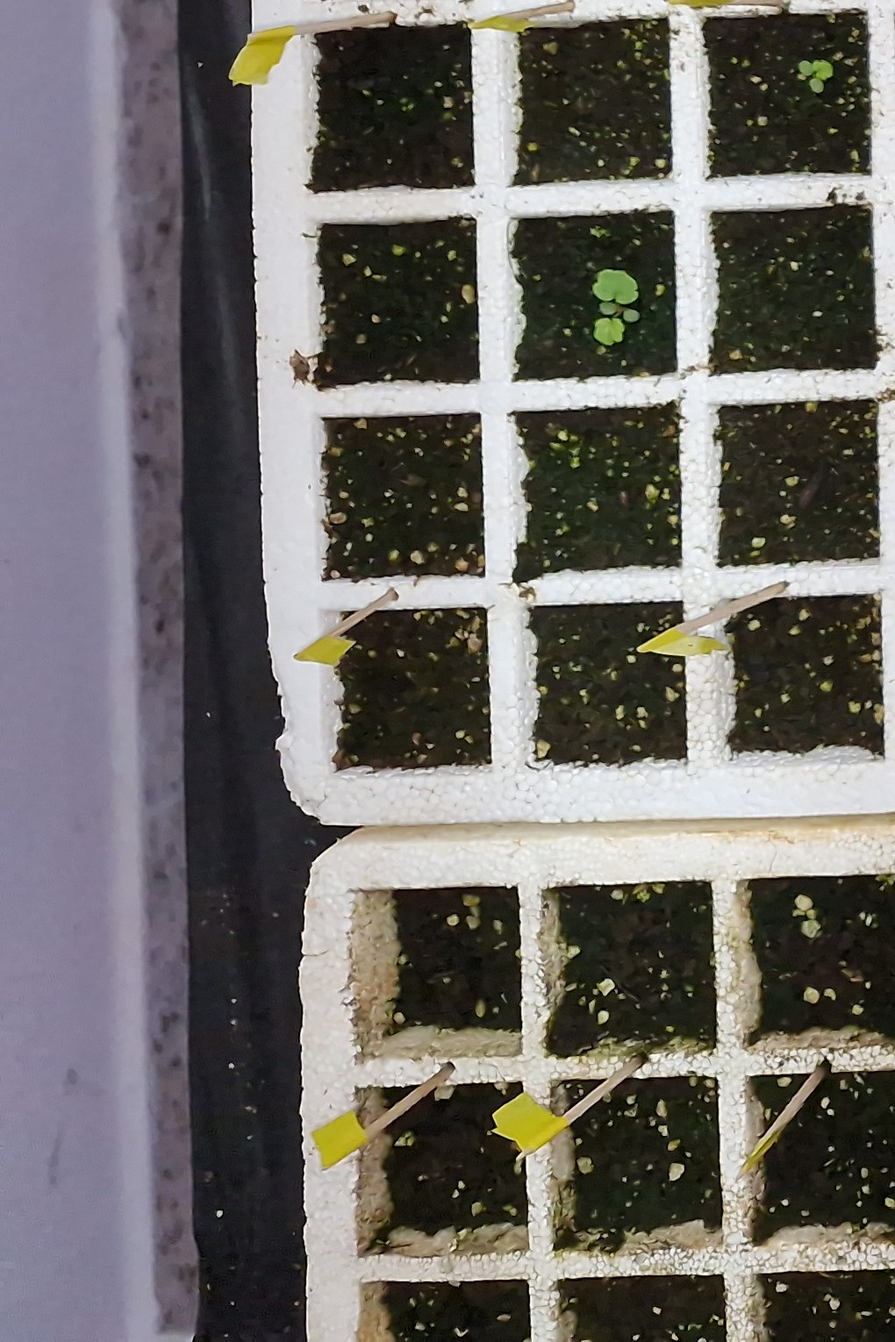Folha: (593, 270, 639, 303), (593, 317, 625, 346), (812, 60, 834, 81), (809, 78, 824, 93), (800, 60, 814, 75), (624, 309, 639, 322), (600, 303, 617, 314)
Germinacao: (593, 269, 639, 345), (798, 59, 833, 93)
